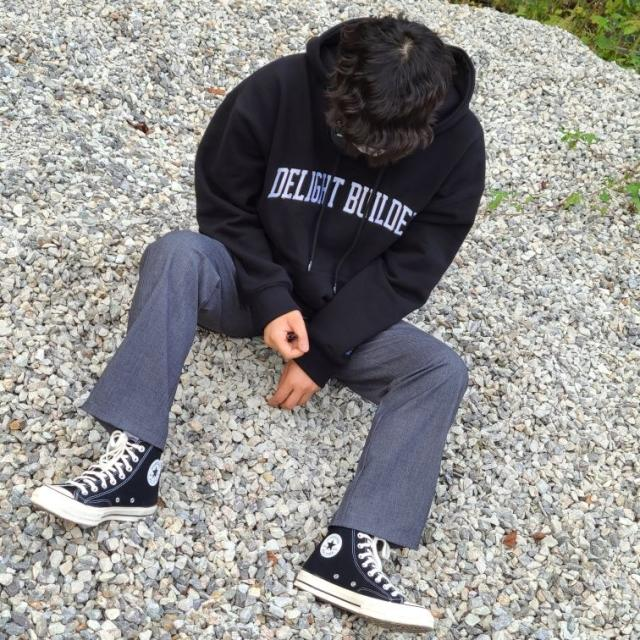mtm: (189, 25, 487, 351)
slacks: (77, 222, 466, 550)
